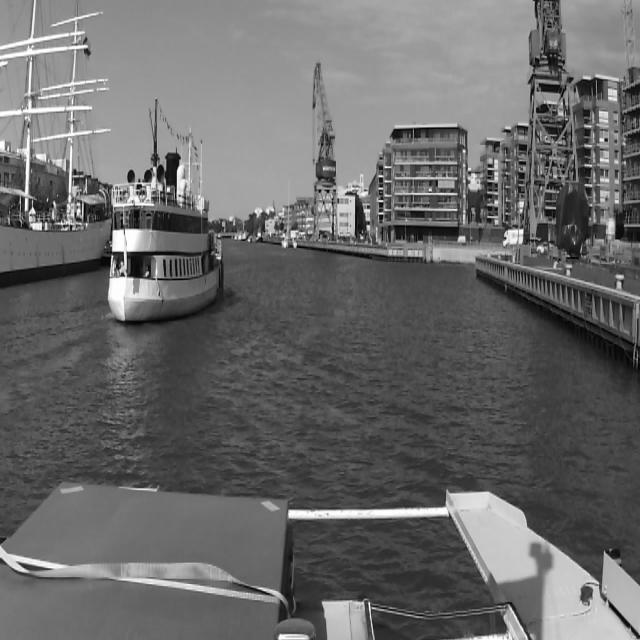ship: (0, 2, 110, 286), (107, 86, 223, 324), (282, 185, 298, 251)
